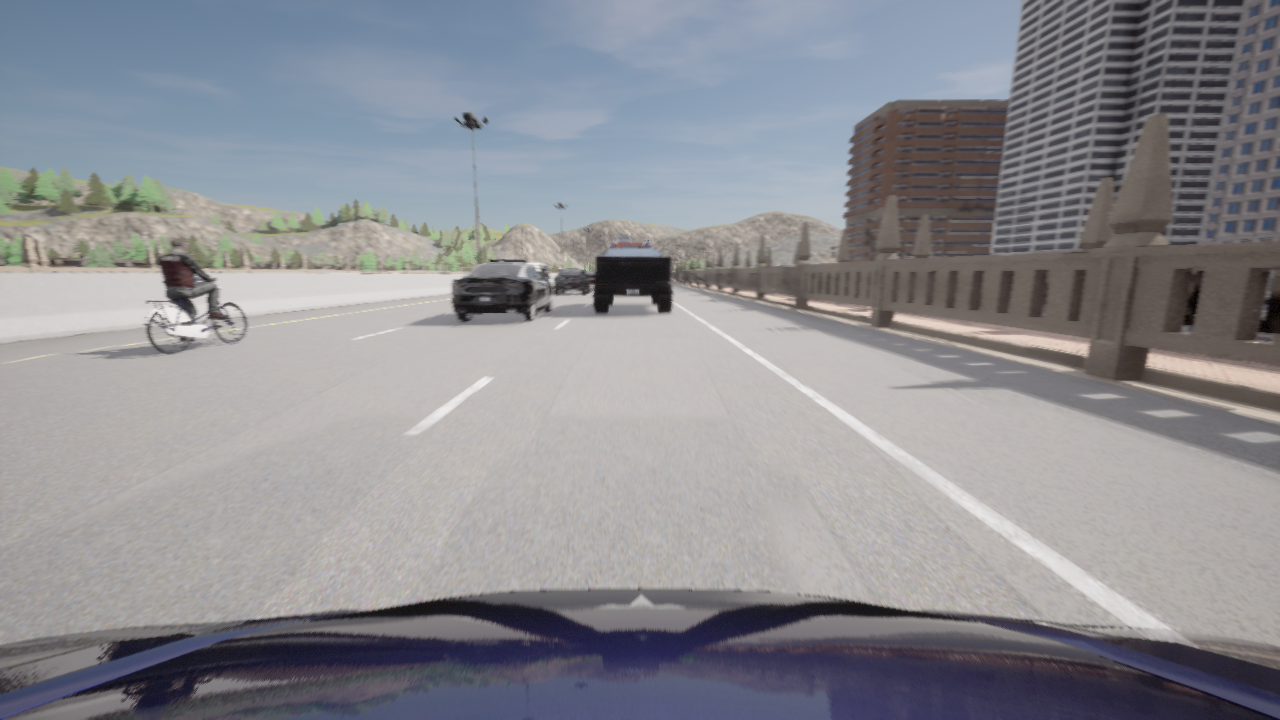cyclist: (0, 588, 1279, 719), (144, 278, 246, 353), (452, 258, 552, 320), (593, 248, 672, 312), (554, 268, 591, 294), (610, 234, 650, 247), (526, 261, 550, 280), (586, 271, 594, 283)
